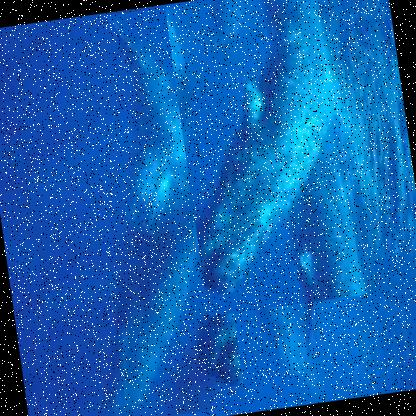sperm_whale: (3, 3, 246, 415), (162, 0, 375, 317)
